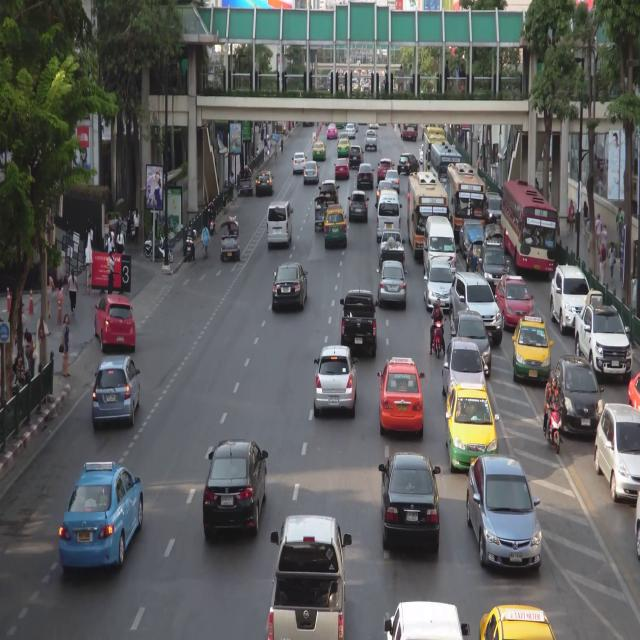bus: (501, 175, 556, 276), (407, 172, 450, 261), (446, 163, 486, 242), (430, 140, 461, 196), (423, 125, 446, 179), (401, 121, 419, 140)
car: (272, 503, 346, 640), (459, 455, 545, 565), (374, 446, 445, 557), (202, 436, 270, 541), (593, 396, 640, 506), (574, 296, 631, 374), (384, 591, 469, 640), (553, 353, 602, 437), (311, 339, 363, 416), (92, 352, 141, 432), (450, 269, 502, 340), (546, 261, 595, 333), (339, 282, 379, 360), (91, 292, 137, 354), (437, 344, 487, 399), (448, 309, 490, 367), (421, 254, 457, 316), (269, 257, 311, 309), (379, 258, 410, 311), (264, 197, 294, 247), (217, 211, 243, 264), (376, 190, 400, 236), (377, 229, 406, 265), (347, 183, 368, 224), (398, 151, 420, 175), (314, 195, 328, 232), (321, 179, 340, 206), (358, 162, 376, 190), (374, 157, 395, 180), (255, 166, 273, 192), (364, 124, 378, 156), (302, 159, 319, 185), (376, 174, 392, 201), (239, 165, 254, 193), (291, 147, 306, 171), (388, 166, 399, 194), (350, 147, 363, 166), (344, 123, 356, 136)
pedestrian: (59, 311, 72, 382), (67, 266, 79, 319), (198, 217, 211, 259), (104, 247, 115, 296), (26, 331, 36, 372), (133, 205, 142, 246), (608, 240, 616, 284), (599, 242, 607, 286), (20, 300, 27, 347), (595, 212, 603, 250), (568, 197, 575, 237), (615, 205, 623, 237), (582, 197, 588, 237), (600, 221, 608, 250), (116, 229, 124, 253), (106, 230, 113, 253), (110, 227, 115, 249), (479, 143, 483, 167)
taxi: (56, 455, 147, 577), (443, 384, 501, 476), (378, 358, 425, 437), (478, 603, 560, 640), (513, 316, 553, 383), (493, 276, 536, 330), (322, 201, 349, 250), (312, 141, 327, 164), (337, 135, 350, 157), (326, 121, 337, 140)
